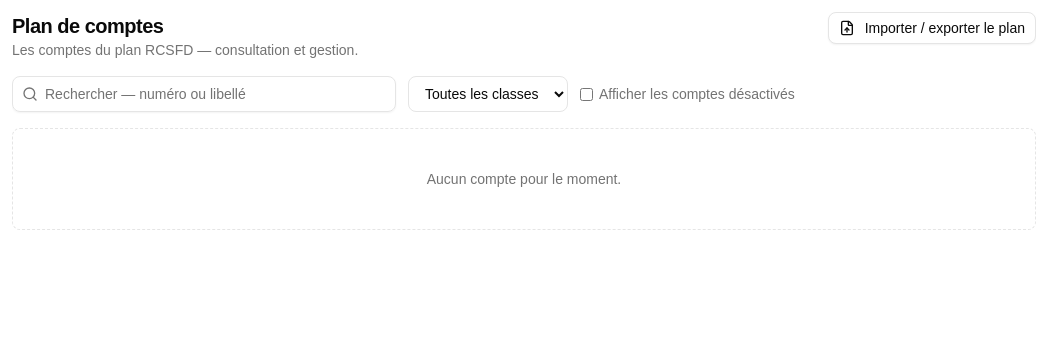
Test: PagePlanComptable — import/export CSV › import masqué sans compta.plan.manage — export reste accessible
This screenshot has width=1048, height=342.
Expected: the text "Aucun compte pour le moment." is shown, x1=12 y1=128 x2=1036 y2=230
Click the button "Importer / exporter le plan" at (932, 28), box x1=828 y1=12 x2=1036 y2=44
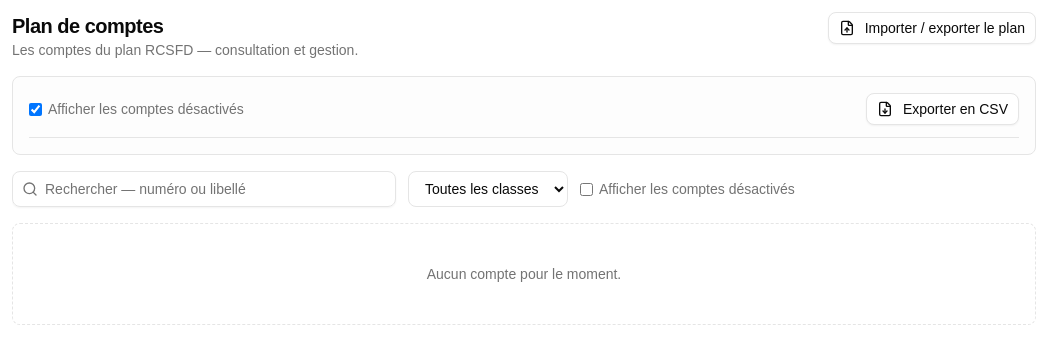
Now the button "Exporter en CSV" is shown, box x1=866 y1=93 x2=1019 y2=125
